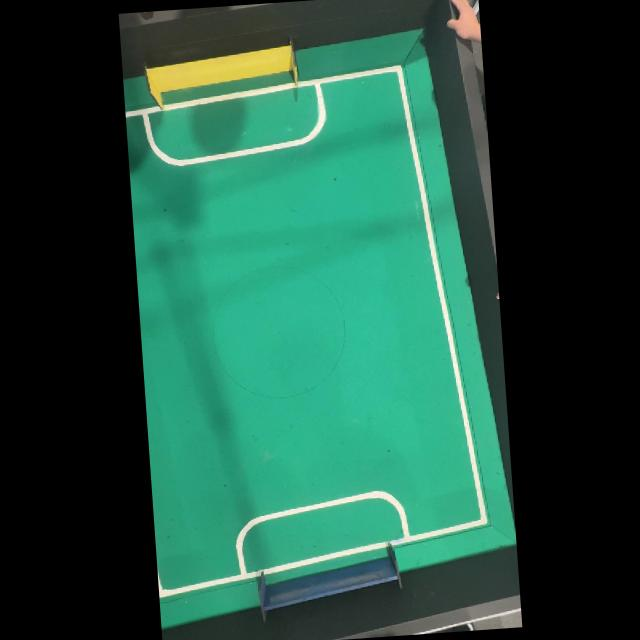goal: (258, 541, 401, 621), (145, 43, 297, 109)
